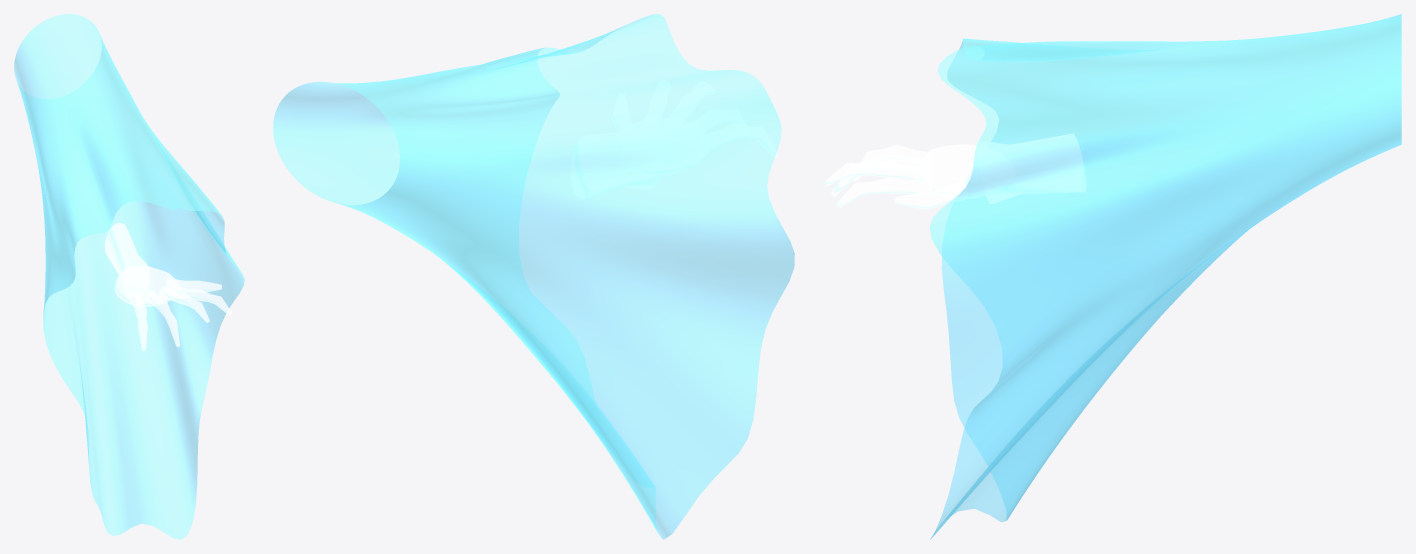
The model's file is ghost_hand_l.glb.
3 views of the same model, side by side, from view 1: azimuth 30°, elevation 25°; view 2: azimuth 150°, elevation 25°; view 3: azimuth 270°, elevation 25° (orthographic). The views are drawn at different scales.
Visible parts, largest first — view 1: GhostSleeve, SpectralPalm, SpectralWrist, Finger_3, Finger_1, Finger_2, Thumb, Finger_0; view 2: GhostSleeve, SpectralWrist, SpectralPalm, Finger_0, Finger_2, Finger_1; view 3: GhostSleeve, SpectralWrist, SpectralPalm, Finger_2, Finger_3, Finger_1, Thumb, Finger_0.
Boxes of the visible parts, x1,y1,x2,y2 form: GhostSleeve: (14,14,244,539); SpectralPalm: (114,266,179,306); SpectralWrist: (105,222,149,300); Finger_3: (174,286,231,315); Finger_1: (145,291,179,346); Finger_2: (159,287,209,322); Thumb: (166,278,221,292); Finger_0: (131,296,147,350); GhostSleeve: (273,14,794,539); SpectralWrist: (571,120,663,199); SpectralPalm: (622,116,710,175); Finger_0: (706,123,778,157); Finger_2: (668,81,715,119); Finger_1: (690,109,746,131); GhostSleeve: (929,14,1401,539); SpectralWrist: (978,134,1085,203); SpectralPalm: (915,144,1006,198); Finger_2: (823,161,930,186); Finger_3: (836,177,933,208); Finger_1: (831,154,930,196); Thumb: (894,182,967,209); Finger_0: (852,144,932,181).
Size of the model in its own units: 0.169 by 0.3108 by 0.2917.
